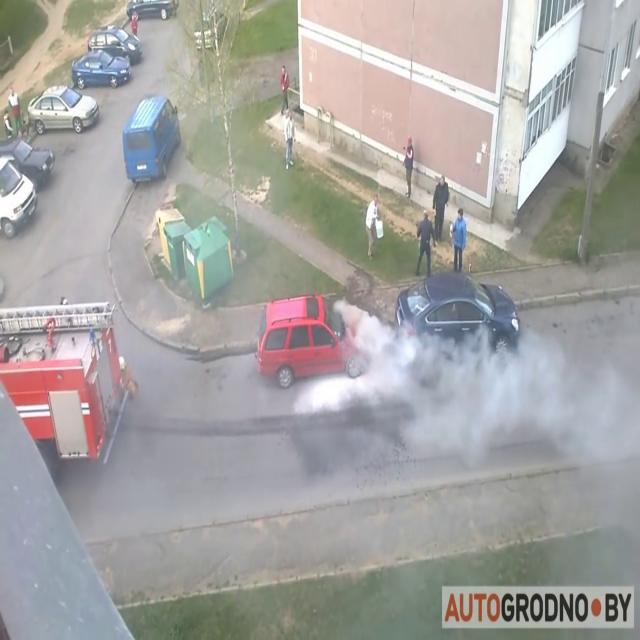Smoke: (338, 275, 640, 478)
